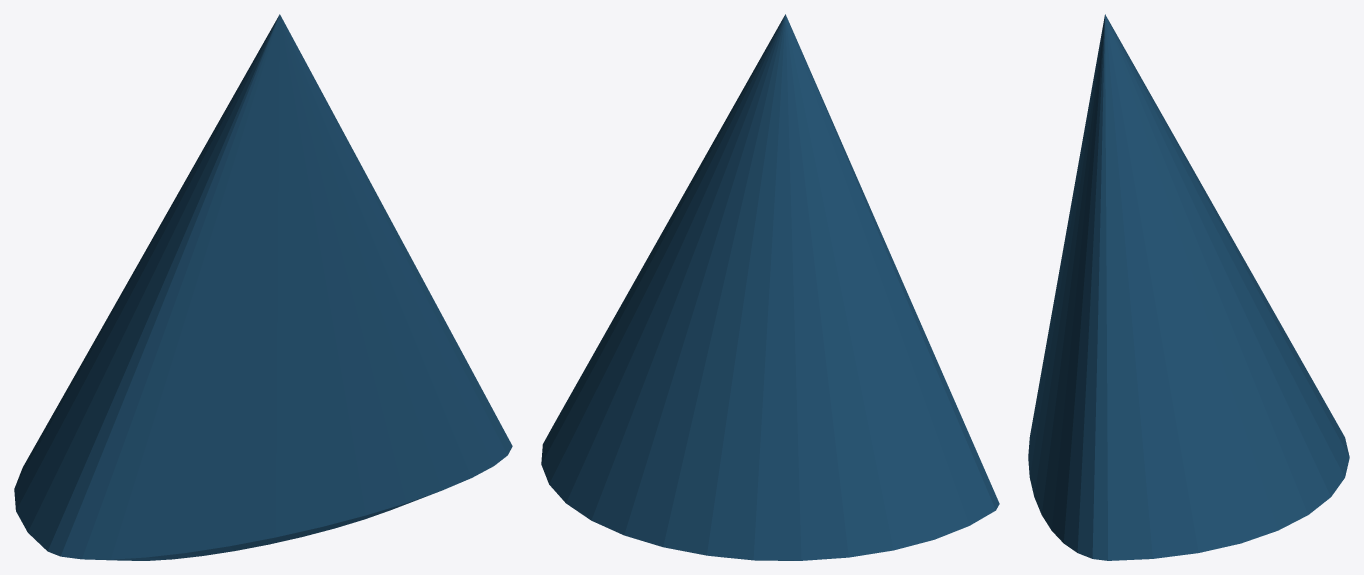
File: LightSconce1.fbx
3 renders of one model, left to right at view 1: azimuth 30°, elevation 25°; view 2: azimuth 150°, elevation 25°; view 3: azimuth 270°, elevation 25°, orthographic. The views are drawn at different scales.
Parts seen in each view (by area): view 1: Cone; view 2: Cone; view 3: Cone.
Boxes of the visible parts, x1,y1,x2,y2 form: Cone: (14, 14, 512, 560); Cone: (541, 14, 999, 560); Cone: (1028, 14, 1349, 560).
Size of the model in its own units: 200 by 210 by 131.
